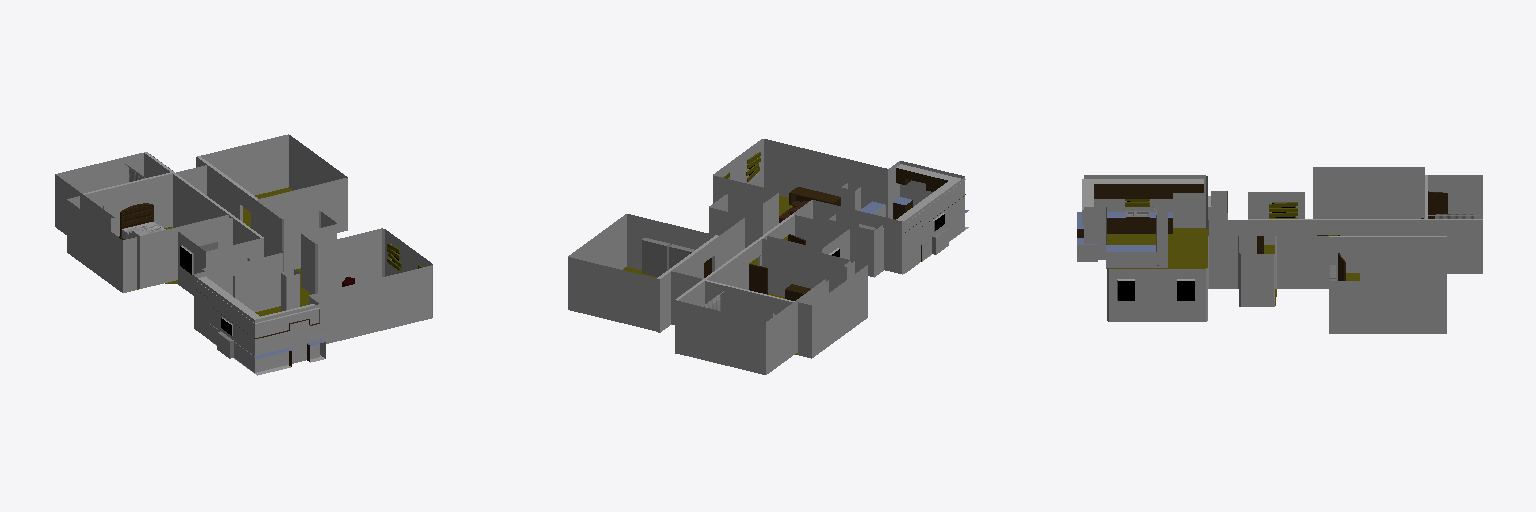
Rendered from GameJamRoom_parted.obj.
The picture shows the model from 3 angles: view 1: azimuth 30°, elevation 25°; view 2: azimuth 150°, elevation 25°; view 3: azimuth 270°, elevation 25°; orthographic projection.
Visible parts, largest first — view 1: GameJamRooms; view 2: GameJamRooms; view 3: GameJamRooms.
Boxes of the visible parts, x1,y1,x2,y2 form: GameJamRooms: [55, 134, 432, 375]; GameJamRooms: [568, 139, 968, 374]; GameJamRooms: [1077, 167, 1482, 333].
Bounding box in the file's own units: 1565 × 411 × 2354.